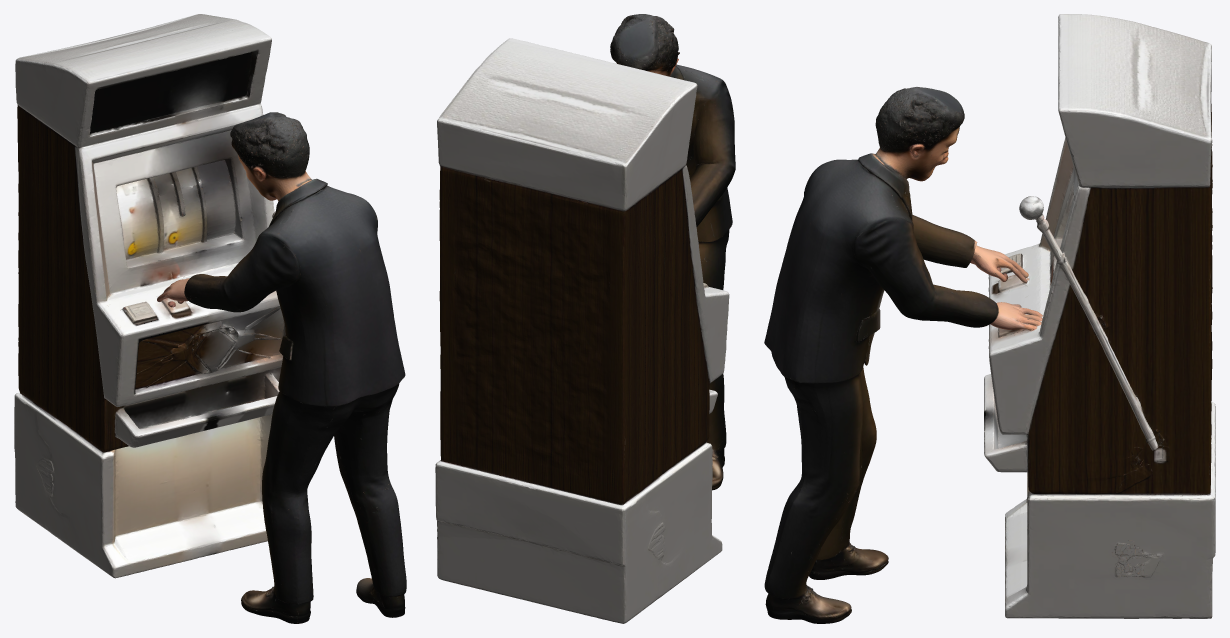
File: Occupied_slots_m.glb
The picture shows the model from 3 angles, left to right: view 1: azimuth 30°, elevation 25°; view 2: azimuth 150°, elevation 25°; view 3: azimuth 270°, elevation 25°; orthographic projection. The views are drawn at different scales.
Visible parts, largest first — view 1: world; view 2: world; view 3: world.
Part boxes in pixels (box(x1,y1,x2,y2)): world: box(14, 14, 406, 623); world: box(435, 14, 735, 623); world: box(764, 14, 1215, 623).
Size of the model in its own units: 0.8725 by 2 by 1.59.
1 material, 1 textured.
